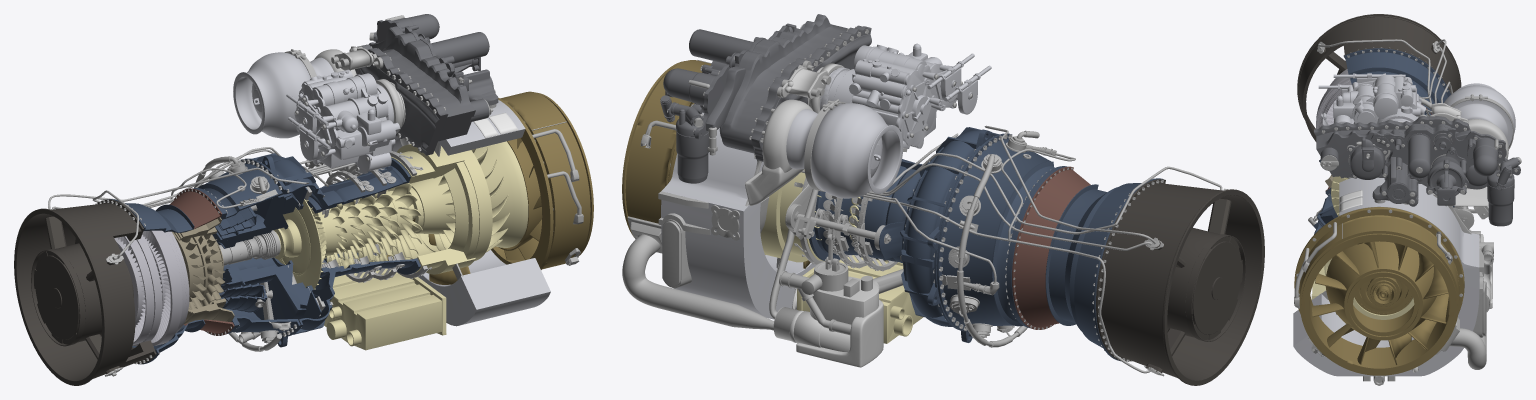
File: engine.glb
3 renders of one model, left to right at view 1: azimuth 30°, elevation 25°; view 2: azimuth 150°, elevation 25°; view 3: azimuth 270°, elevation 25°, orthographic. The views are drawn at different scales.
Visible parts, largest first — view 1: Object.021, Object.010, Object.009, Object, Object.001, Object.006, Object.025, Object.005, Object.018, Object.011, Object.027, Object.004 (+12 smaller); view 2: Object, Object.021, Object.018, Object.010, Object.009, Object.025, Object.005, Object.008, Object.001, Object.019, Object.003, Object.015 (+5 smaller); view 3: Object.001, Object.009, Object.025, Object.010, Object, Object.021, Object.018, Object.020, Object.002, Object.015, Object.027, Object.016 (+6 smaller).
Part boxes in pixels (x1,y1,x2,y2): Object.021: (14, 199, 156, 385); Object.010: (233, 52, 400, 173); Object.009: (355, 14, 498, 155); Object: (48, 15, 566, 376); Object.001: (412, 91, 593, 269); Object.006: (324, 268, 446, 350); Object.025: (391, 100, 550, 326); Object.005: (212, 153, 334, 347); Object.018: (107, 158, 300, 364); Object.011: (391, 144, 492, 274); Object.027: (114, 230, 189, 346); Object.004: (273, 190, 412, 289); Object: (622, 24, 1227, 376); Object.021: (1096, 179, 1264, 385); Object.018: (936, 133, 1163, 361); Object.010: (786, 43, 991, 198); Object.009: (660, 14, 871, 183); Object.025: (661, 112, 822, 319); Object.005: (900, 127, 999, 342); Object.008: (774, 276, 883, 367); Object.001: (622, 60, 711, 236); Object.019: (1012, 166, 1090, 329); Object.003: (809, 159, 931, 263); Object.015: (745, 99, 812, 205); Object.001: (1294, 207, 1464, 375); Object.009: (1314, 116, 1520, 226); Object.025: (1293, 177, 1479, 376); Object.010: (1318, 73, 1515, 146); Object: (1308, 39, 1521, 385); Object.021: (1297, 14, 1461, 141); Object.018: (1314, 48, 1450, 226); Object.020: (1336, 252, 1448, 364); Object.002: (1294, 209, 1462, 372); Object.015: (1453, 119, 1508, 206); Object.027: (1316, 69, 1351, 129); Object.016: (1431, 103, 1468, 122).
Bounding box in the file's own units: 0.5957 × 0.2956 × 0.2623.
